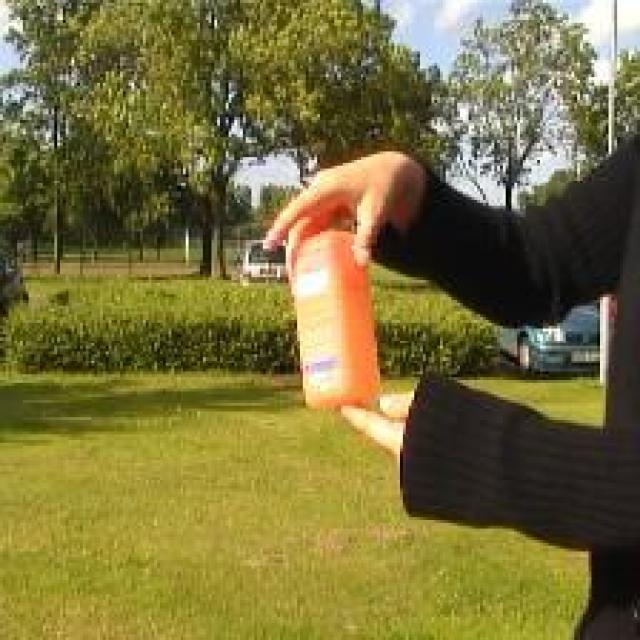other: (266, 205, 401, 408)
